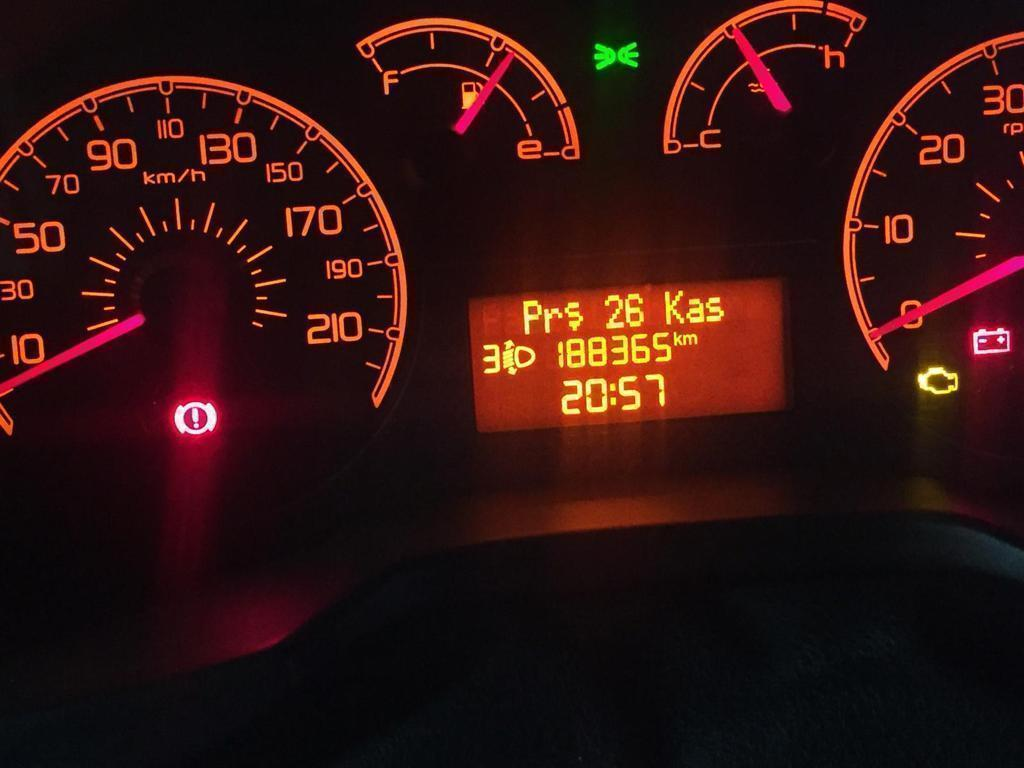0: (584, 377, 608, 413)
1: (556, 339, 564, 368)
2: (560, 379, 583, 415), (603, 294, 625, 329)
3: (609, 335, 629, 366), (481, 344, 500, 374)
5: (618, 375, 641, 411), (652, 331, 671, 362)
6: (624, 293, 644, 327), (630, 332, 650, 364)
7: (644, 373, 666, 408)
8: (565, 337, 585, 368), (587, 336, 607, 366)
X: (663, 289, 685, 325), (522, 299, 543, 336), (563, 301, 583, 332), (543, 307, 563, 334), (686, 297, 705, 324), (705, 296, 724, 322), (682, 333, 697, 346), (609, 382, 617, 406), (673, 331, 682, 345)
odometer: (463, 275, 792, 437)
